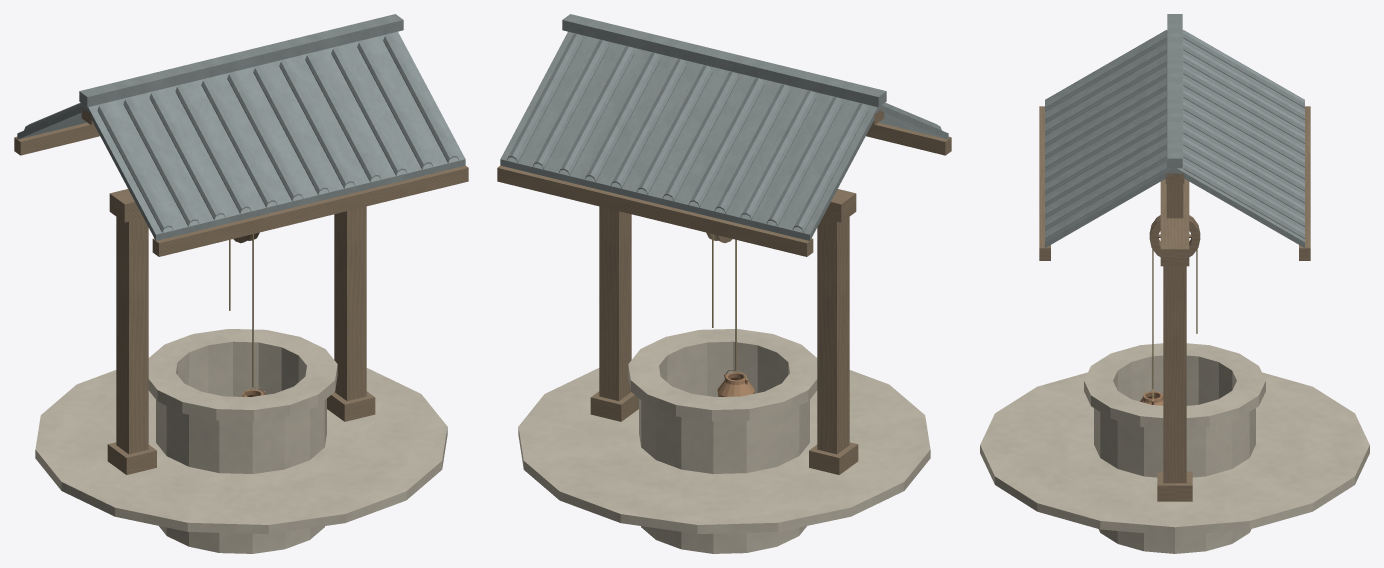
The model's file is well-B-LOD1-batched-128.glb.
3 renders of one model, left to right at view 1: azimuth 30°, elevation 25°; view 2: azimuth 150°, elevation 25°; view 3: azimuth 270°, elevation 25°, orthographic. The views are drawn at different scales.
Parts seen in each view (by area): view 1: static_batch_0, static_batch_2, static_batch_1; view 2: static_batch_0, static_batch_2, static_batch_1, static_batch_4; view 3: static_batch_0, static_batch_2, static_batch_1.
Part boxes in pixels (x1=…): static_batch_0: x1=35, y1=329, x2=447, y2=553; static_batch_2: x1=17, y1=14, x2=465, y2=240; static_batch_1: x1=14, y1=107, x2=468, y2=474; static_batch_0: x1=518, y1=329, x2=930, y2=553; static_batch_2: x1=500, y1=14, x2=948, y2=240; static_batch_1: x1=497, y1=109, x2=951, y2=474; static_batch_4: x1=717, y1=372, x2=754, y2=396; static_batch_0: x1=980, y1=343, x2=1369, y2=553; static_batch_2: x1=1045, y1=14, x2=1304, y2=247; static_batch_1: x1=1039, y1=106, x2=1310, y2=501.
Bounding box in the file's own units: 3.3 × 4.05 × 3.3.
Materials: 5 (3 with a texture image).
